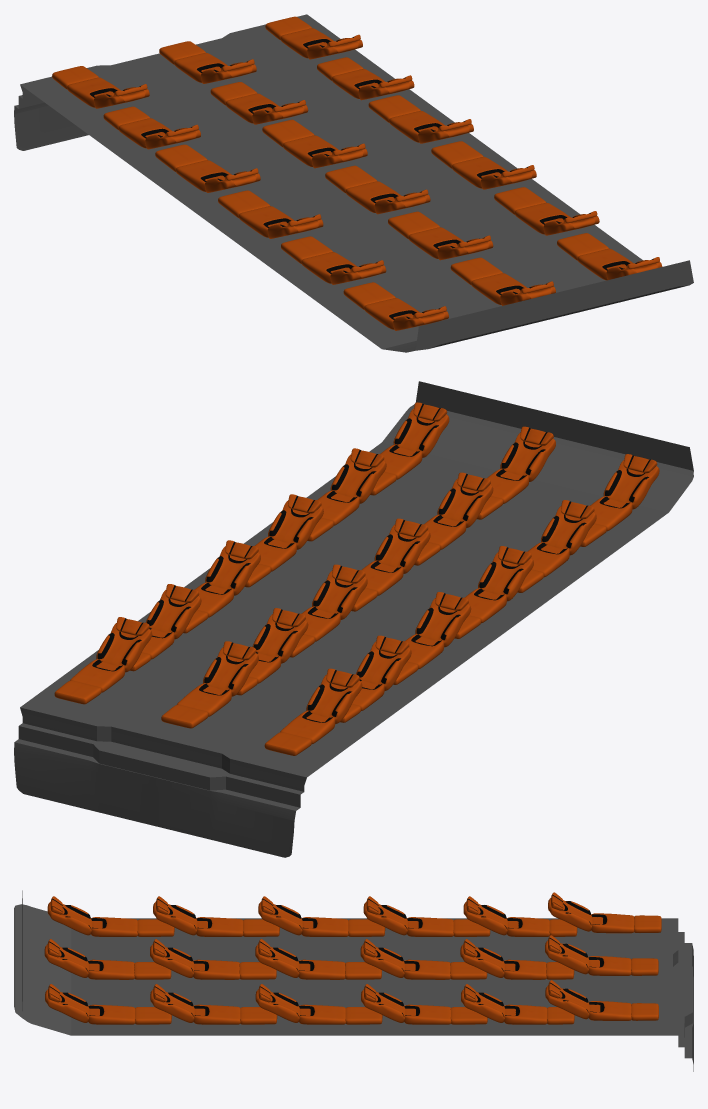
Rendered from .glb1.glb.
3 views of the same model, one above another, from view 1: azimuth 30°, elevation 25°; view 2: azimuth 150°, elevation 25°; view 3: azimuth 270°, elevation 25° (orthographic). The views are drawn at different scales.
Parts seen in each view (by area): view 1: floor, seatmidle_Material.271_0.001, seatmidle_Material.267_0.002, seatmidle_Material.269_0.002, seatmidle_Material.267_0.003, seatmidle_Material.273_0.003, seatmidle_Material.271_0.002, seatmidle_Material.269_0.003, seatmidle_Material.267_0.001, seatmidle_Material.269_0.001, seatmidle_Material.271_0.003, seatmidle_Material.273_0.002 (+7 smaller); view 2: floor, seatmidle_Material.265_0.006, seatmidle_Material.265_0.004, seatmidle_Material.265_0.002, seatmidle_Material.271_0.001, seatmidle_Material.273_0.001, seatmidle_Material.273_0.003, seatmidle_Material.271_0.002, seatmidle_Material.269_0.002, seatmidle_Material.269_0.003, seatmidle_Material.269_0.001, seatmidle_Material.273_0.002 (+7 smaller); view 3: floor, seatmidle_Material.269_0.001, seatmidle_Material.271_0.001, seatmidle_Material.273_0.002, seatmidle_Material.271_0.002, seatmidle_Material.273_0.001, seatmidle_Material.269_0.002, seatmidle_Material.269_0.003, seatmidle_Material.273_0.003, seatmidle_Material.271_0.003, seatmidle_Material.267_0.002, seatmidle_Material.267_0.001 (+7 smaller).
Part boxes in pixels (x1,y1,x2,y2): floor: (14,14,693,352); seatmidle_Material.271_0.001: (494,187,599,235); seatmidle_Material.267_0.002: (262,119,367,168); seatmidle_Material.269_0.002: (325,165,430,214); seatmidle_Material.267_0.003: (155,144,260,192); seatmidle_Material.273_0.003: (343,282,448,330); seatmidle_Material.271_0.002: (388,211,493,260); seatmidle_Material.269_0.003: (218,190,323,238); seatmidle_Material.267_0.001: (368,95,473,143); seatmidle_Material.269_0.001: (431,141,536,189); seatmidle_Material.271_0.003: (281,236,386,284); seatmidle_Material.273_0.002: (450,257,555,305); floor: (14,381,693,857); seatmidle_Material.265_0.006: (264,668,362,755); seatmidle_Material.265_0.004: (161,641,258,728); seatmidle_Material.265_0.002: (54,617,152,704); seatmidle_Material.271_0.001: (307,448,386,541); seatmidle_Material.273_0.001: (370,402,449,495); seatmidle_Material.273_0.003: (580,454,659,546); seatmidle_Material.271_0.002: (414,472,493,565); seatmidle_Material.269_0.002: (351,518,430,611); seatmidle_Material.269_0.003: (455,546,533,638); seatmidle_Material.269_0.001: (244,494,323,587); seatmidle_Material.273_0.002: (477,426,555,519); floor: (14,890,693,1071); seatmidle_Material.269_0.001: (255,984,382,1024); seatmidle_Material.271_0.001: (150,984,277,1024); seatmidle_Material.273_0.002: (44,939,171,979); seatmidle_Material.271_0.002: (150,939,276,979); seatmidle_Material.273_0.001: (45,984,171,1024); seatmidle_Material.269_0.002: (255,939,381,979); seatmidle_Material.269_0.003: (258,896,385,936); seatmidle_Material.273_0.003: (47,896,174,936); seatmidle_Material.271_0.003: (153,896,279,936); seatmidle_Material.267_0.002: (360,939,487,979); seatmidle_Material.267_0.001: (361,984,487,1024).
Bounding box in the file's own units: 0.1281 × 0.0508 × 0.3132.
Materials: 7 (7 with a texture image).
